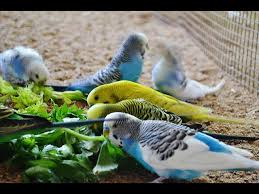budgie: (102, 111, 248, 182), (153, 42, 221, 100), (86, 33, 151, 85), (1, 44, 50, 87), (85, 81, 123, 103)
